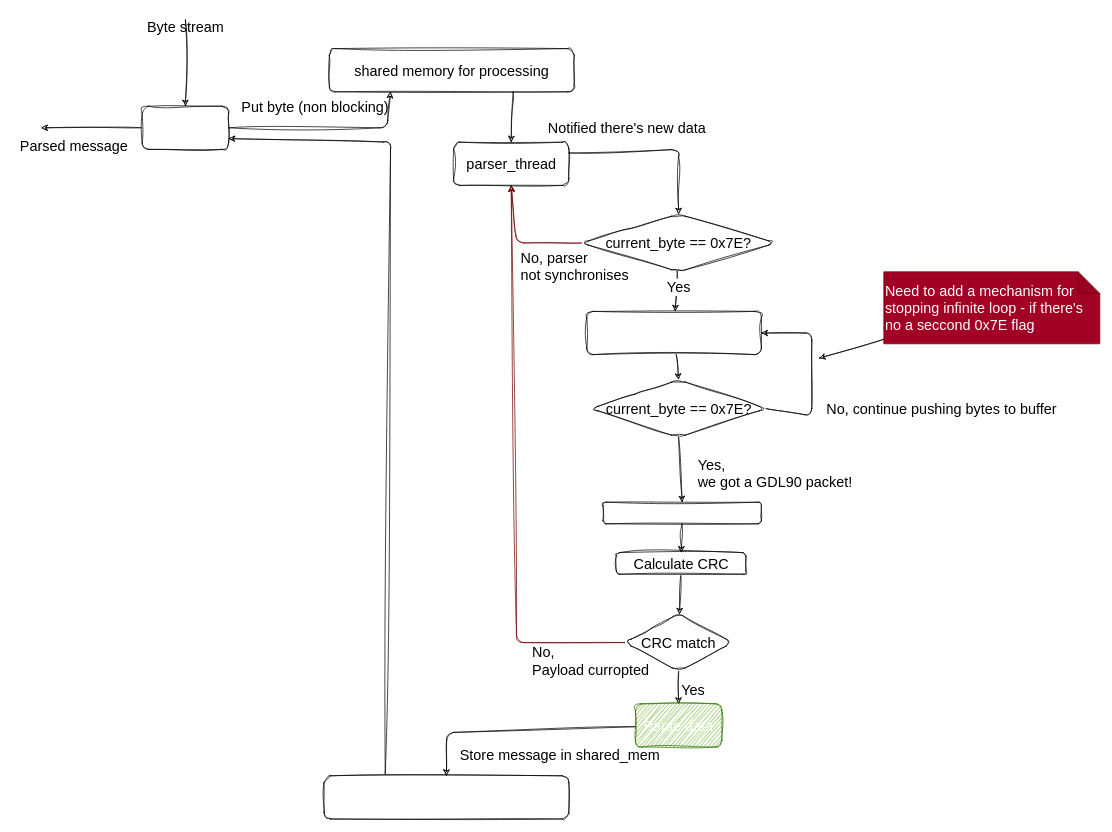
This 1112x832 diagram has some shape labels left out. The shapes that lost their labels are listed below. From the top down, each one's box as (x1, y1, x2, y2) in pixels, then its label:
(141, 105, 229, 149): Parser
(586, 311, 761, 355): Push following bytes to local_buffer
(602, 501, 761, 524): Fix byte stuffing
(323, 775, 569, 819): shared memory for outputing parsed message
